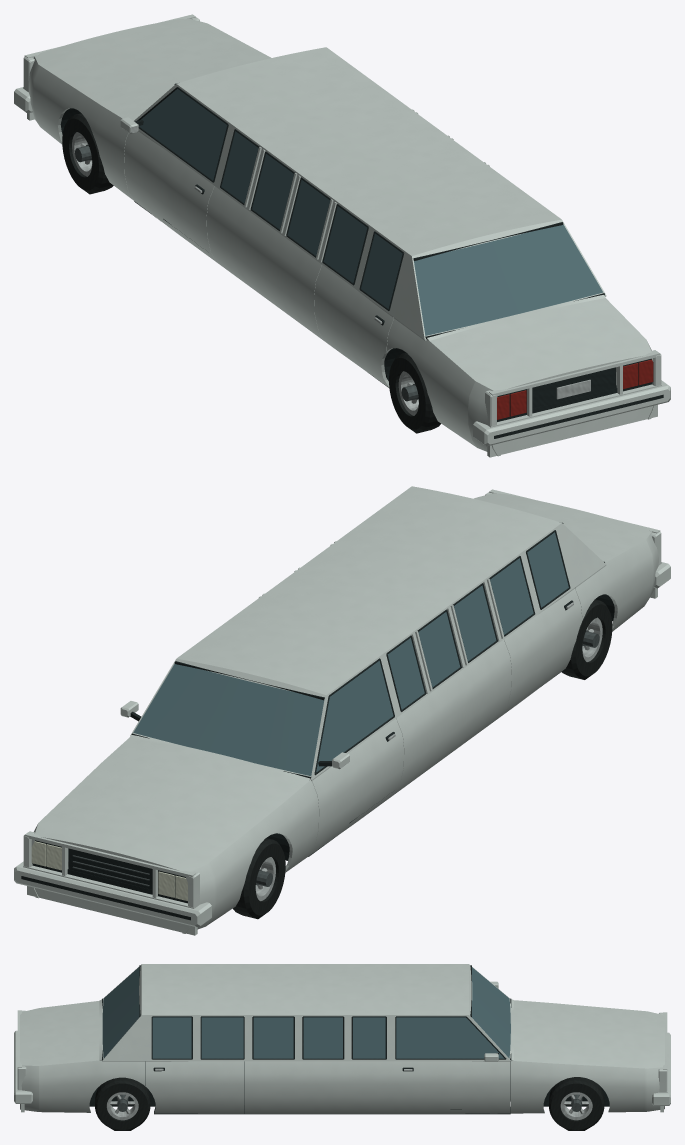
3 renders of one model, top to bottom at view 1: azimuth 30°, elevation 25°; view 2: azimuth 150°, elevation 25°; view 3: azimuth 270°, elevation 25°, orthographic. The views are drawn at different scales.
Visible parts, largest first — view 1: B028-07_body_shell_paint.001, B028-07_roof_paint, B028-07_body_shell_paint, B028-07_glazing_glass.001, B028-07_glazing_glass, B028-07_door_leaf_paint_front_door-1, B028-07_door_leaf_paint_rear_door-1, B028-07_glazing_glass_front_door-1, B028-07_bumper_paint, B028-07_body_shell_dark, B028-07_wheel_rubber_P-0.8300_-2.7600_0.3500, B028-07_wheel_rubber_P-0.8300_2.9400_0.3500 (+3 smaller); view 2: B028-07_body_shell_paint.001, B028-07_roof_paint, B028-07_body_shell_paint, B028-07_glazing_glass.001, B028-07_glazing_glass, B028-07_door_leaf_paint_front_door-1, B028-07_door_leaf_paint_rear_door-1, B028-07_glazing_glass_front_door-1, B028-07_bumper_paint, B028-07_body_shell_dark, B028-07_wheel_rubber_P-0.8300_2.9400_0.3500, B028-07_wheel_rubber_P-0.8300_-2.7600_0.3500 (+3 smaller); view 3: B028-07_body_shell_paint.001, B028-07_body_shell_paint, B028-07_roof_paint, B028-07_glazing_glass, B028-07_door_leaf_paint_front_door1, B028-07_door_leaf_paint_rear_door1, B028-07_glazing_glass.001, B028-07_glazing_glass_front_door1, B028-07_wheel_rubber_P0.8300_2.9400_0.3500, B028-07_wheel_rubber_P0.8300_-2.7600_0.3500, B028-07_trim_dark, B028-07_bumper_paint (+5 smaller).
Part boxes in pixels (x1,y1,x2,y2): B028-07_body_shell_paint.001: (23,14,661,457); B028-07_roof_paint: (176,47,561,255); B028-07_body_shell_paint: (28,57,656,456); B028-07_glazing_glass.001: (413,224,603,335); B028-07_glazing_glass: (221,131,402,308); B028-07_door_leaf_paint_front_door-1: (124,130,215,261); B028-07_door_leaf_paint_rear_door-1: (314,265,393,387); B028-07_glazing_glass_front_door-1: (139,89,227,180); B028-07_bumper_paint: (14,87,670,446); B028-07_body_shell_dark: (497,367,652,421); B028-07_wheel_rubber_P-0.8300_-2.7600_0.3500: (389,353,440,433); B028-07_wheel_rubber_P-0.8300_2.9400_0.3500: (62,113,113,194); B028-07_body_shell_paint.001: (23,489,661,935); B028-07_roof_paint: (177,486,561,695); B028-07_body_shell_paint: (31,532,658,933); B028-07_glazing_glass.001: (133,664,324,775); B028-07_glazing_glass: (387,532,568,709); B028-07_door_leaf_paint_front_door-1: (309,718,403,855); B028-07_door_leaf_paint_rear_door-1: (502,588,582,715); B028-07_glazing_glass_front_door-1: (316,660,393,772); B028-07_bumper_paint: (14,562,670,927); B028-07_body_shell_dark: (32,848,187,903); B028-07_wheel_rubber_P-0.8300_2.9400_0.3500: (233,838,285,919); B028-07_wheel_rubber_P-0.8300_-2.7600_0.3500: (562,599,612,679); B028-07_body_shell_paint.001: (17,964,667,1112); B028-07_body_shell_paint: (20,1060,664,1113); B028-07_roof_paint: (141,964,468,1014); B028-07_glazing_glass: (152,1017,385,1058); B028-07_door_leaf_paint_front_door1: (394,1059,510,1113); B028-07_door_leaf_paint_rear_door1: (145,1061,244,1113); B028-07_glazing_glass.001: (102,967,510,1058); B028-07_glazing_glass_front_door1: (396,1017,504,1058); B028-07_wheel_rubber_P0.8300_2.9400_0.3500: (549,1077,604,1130); B028-07_wheel_rubber_P0.8300_-2.7600_0.3500: (95,1077,150,1130); B028-07_trim_dark: (151,1016,386,1059); B028-07_bumper_paint: (14,1030,670,1105).
Bounding box in the file's own units: 2.22 × 1.56 × 8.25.
Materials: 9 (9 with a texture image).
